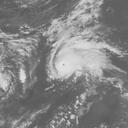cyclone: (46, 29, 120, 86)
